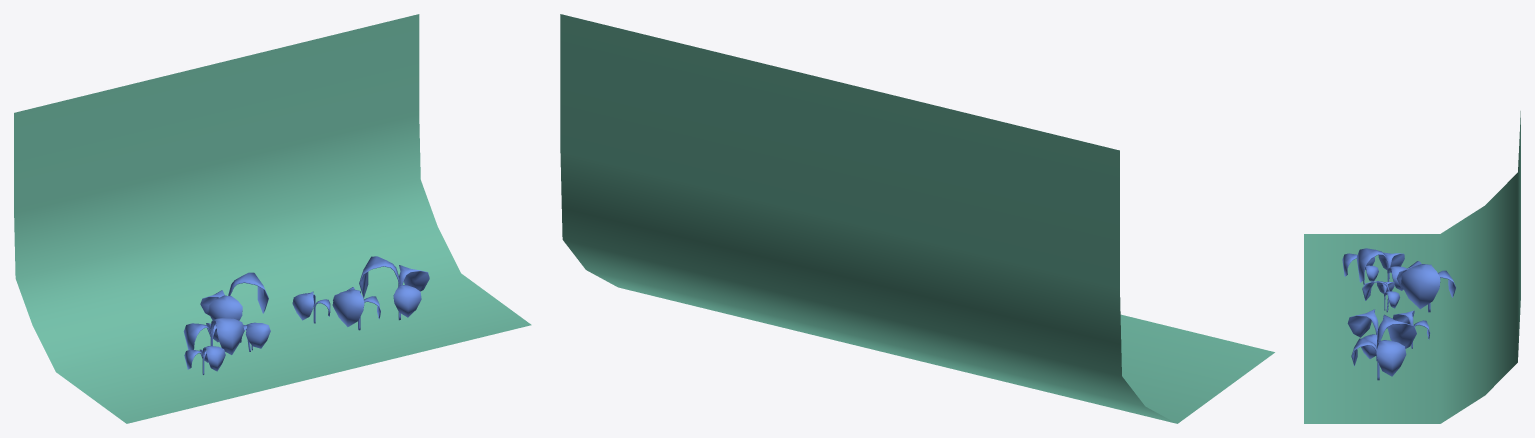
The model's file is dongle_background.gltf.
3 views of the same model, side by side, from view 1: azimuth 30°, elevation 25°; view 2: azimuth 150°, elevation 25°; view 3: azimuth 270°, elevation 25° (orthographic). The views are drawn at different scales.
Visible parts, largest first — view 1: dongle_background, Plane.001, Plane.024, Plane.020, Plane.013, Plane.019, Plane.018, Plane.012, Plane.004, Plane.015; view 2: dongle_background; view 3: dongle_background, Plane.012, Plane.019, Plane.018, Plane.001, Plane.024, Plane.025, Plane.003, Plane.020, Plane.004, Plane.015, Plane.026.
Boxes of the visible parts, x1,y1,x2,y2 form: dongle_background: (14,14,531,423); Plane.001: (332,289,364,329); Plane.024: (210,317,244,354); Plane.020: (393,285,421,319); Plane.013: (209,295,242,324); Plane.019: (399,265,429,319); Plane.018: (359,256,399,320); Plane.012: (228,272,268,313); Plane.004: (245,322,270,351); Plane.015: (292,293,315,323); dongle_background: (560,14,1274,423); dongle_background: (1304,111,1520,423); Plane.012: (1401,264,1440,312); Plane.019: (1376,340,1406,380); Plane.018: (1377,314,1416,380); Plane.001: (1347,309,1378,360); Plane.024: (1356,248,1388,282); Plane.025: (1378,252,1404,281); Plane.003: (1361,334,1377,358); Plane.020: (1351,338,1378,379); Plane.004: (1362,281,1389,312); Plane.015: (1392,310,1414,348); Plane.026: (1387,266,1406,290).
Bounding box in the file's own units: 12.98 × 7.03 × 6.25.
